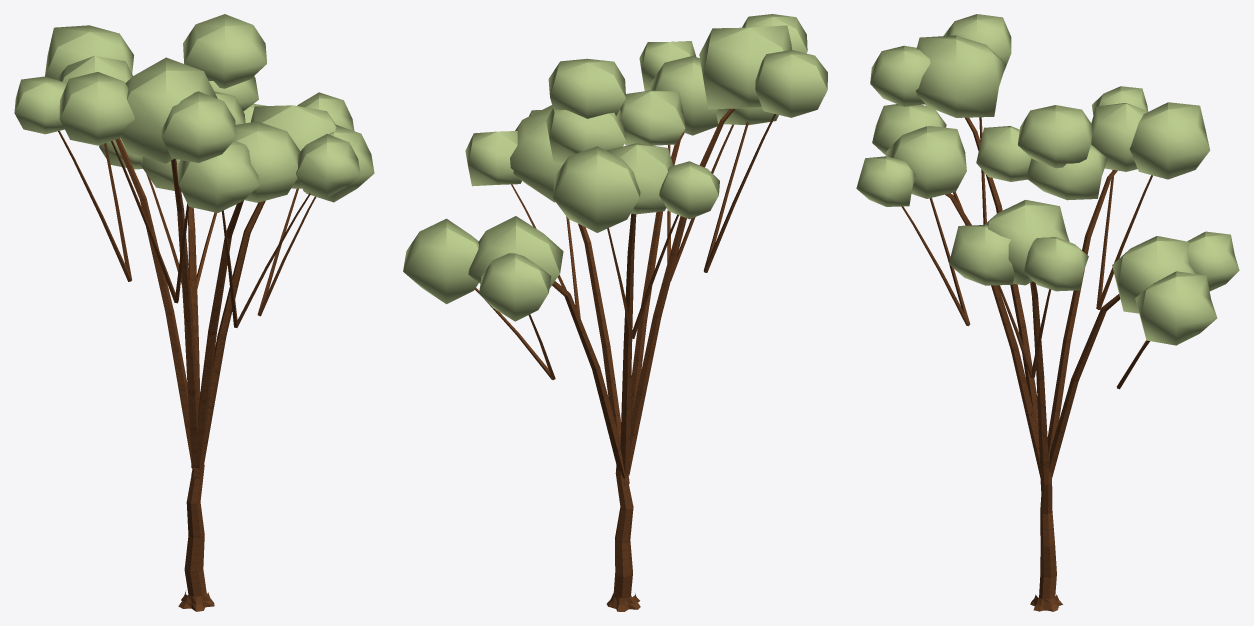
File: dense-temperate-forest-flora-cherry-mature-12eb4b2e__28342.glb
3 views of the same model, side by side, from view 1: azimuth 30°, elevation 25°; view 2: azimuth 150°, elevation 25°; view 3: azimuth 270°, elevation 25° (orthographic). The views are drawn at different scales.
Visible parts, largest first — view 1: cherry-mature; view 2: cherry-mature; view 3: cherry-mature.
Boxes of the visible parts, x1,y1,x2,y2 form: cherry-mature: (14,14,374,611); cherry-mature: (403,14,827,611); cherry-mature: (856,14,1239,611).
Bounding box in the file's own units: 9.24 × 15.46 × 10.12.
2 materials, 1 textured.
